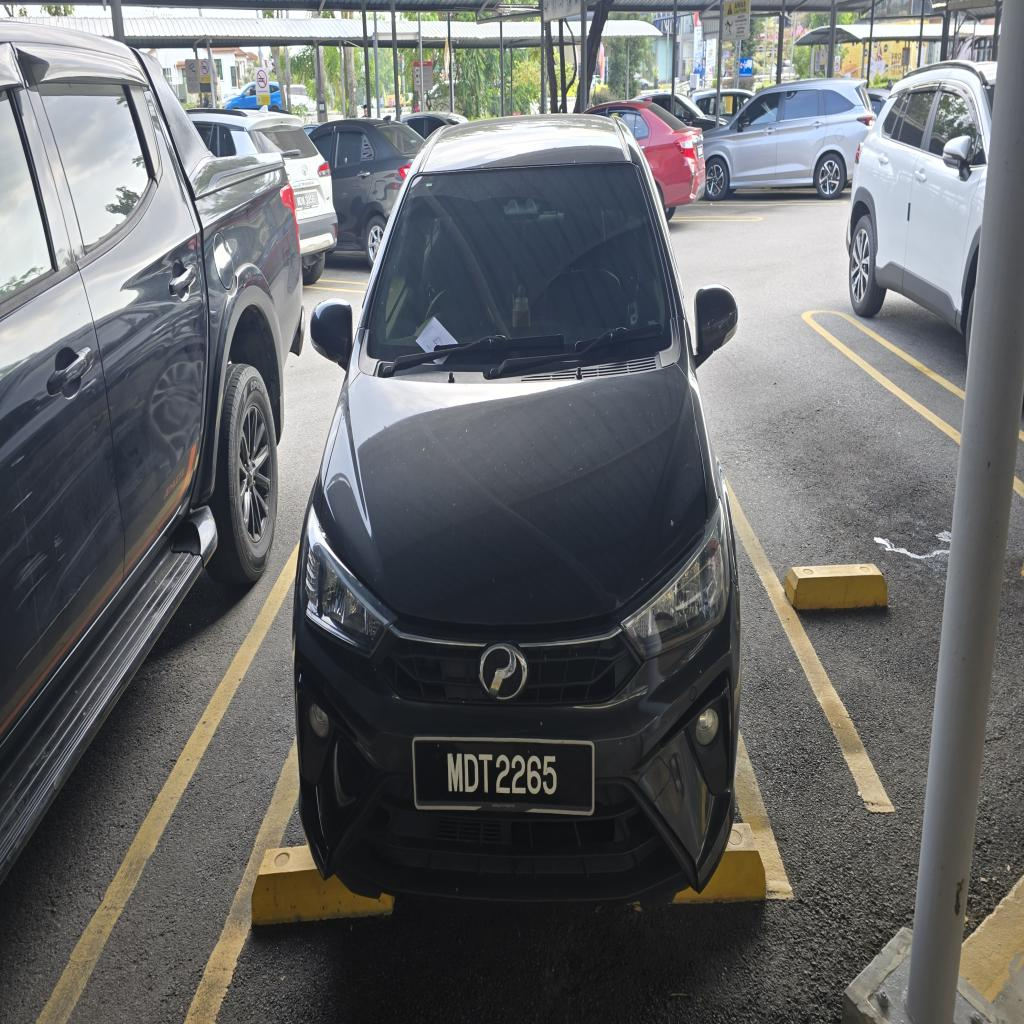car: (293, 116, 740, 901)
car plate: (413, 738, 594, 815)
